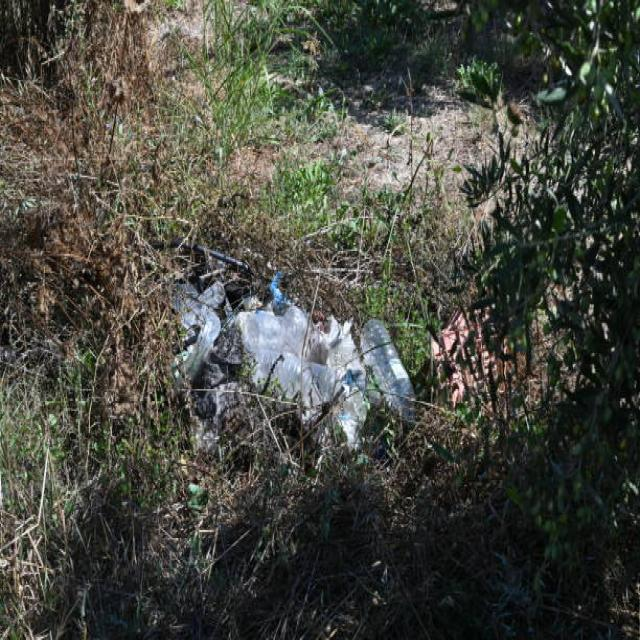plastic: (190, 268, 422, 414)
